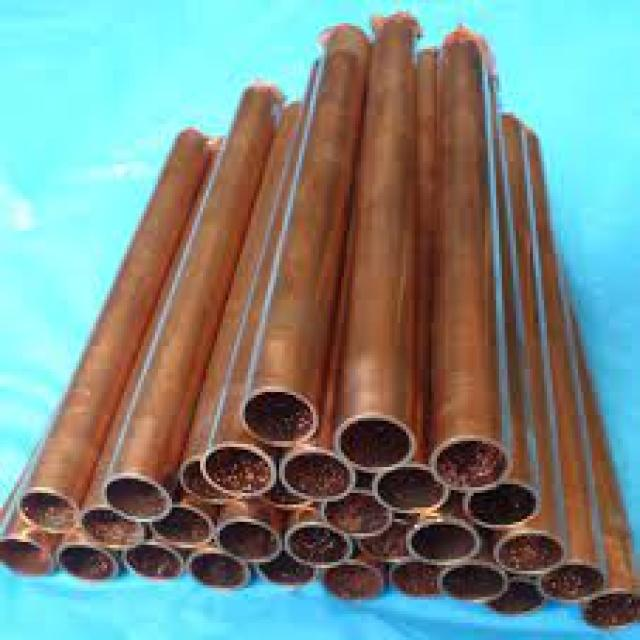Dry Waste: (8, 20, 640, 637)
